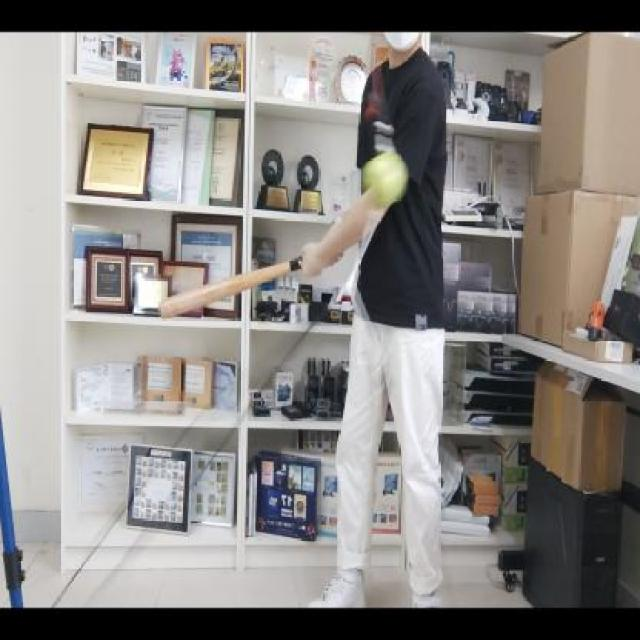baseball: (358, 150, 409, 210)
